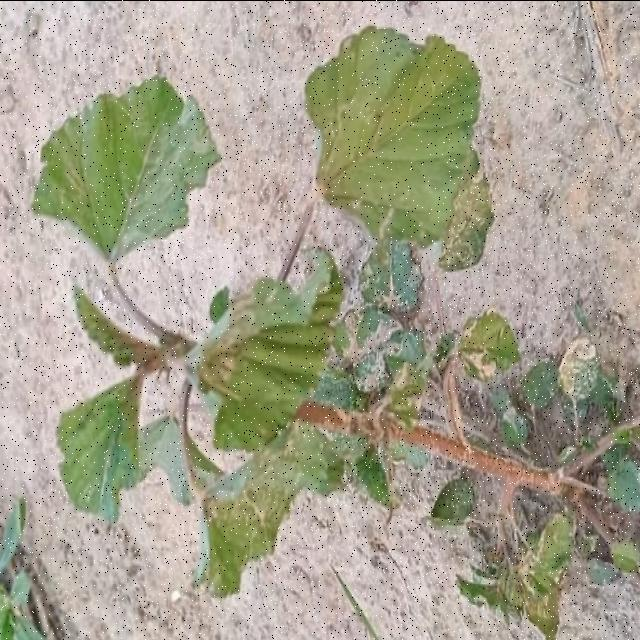weed: (306, 25, 480, 246)
